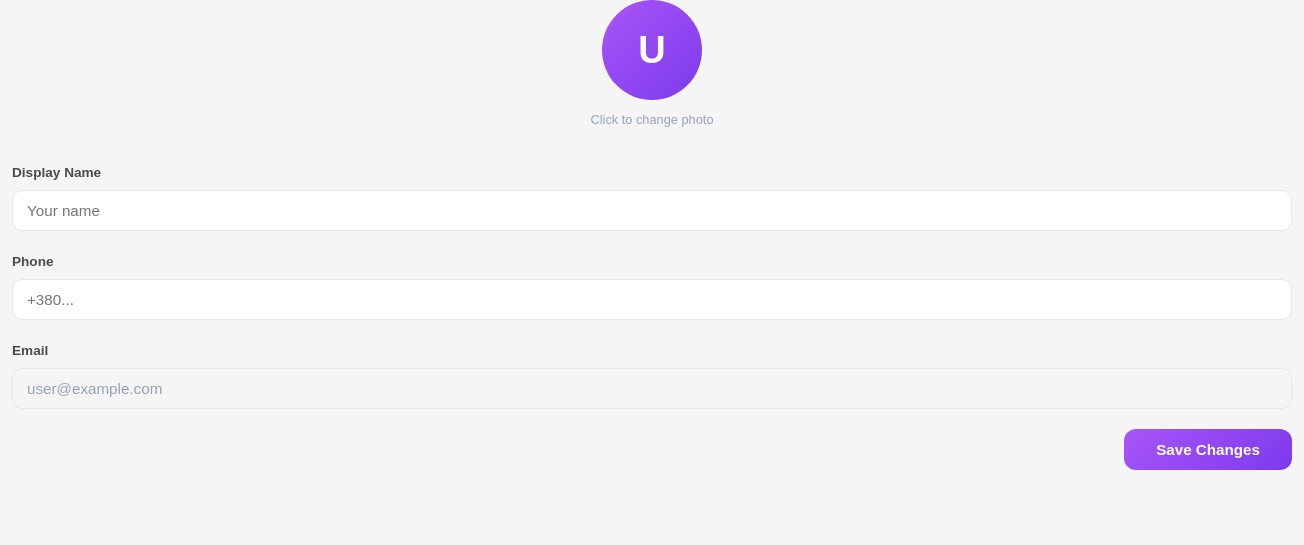
ProfileTab › shows a validation error for a too-short display name
This screenshot has width=1304, height=545.
Type "A" into the field labelled "Display Name" at point(652, 211), box left=12, top=190, right=1292, bottom=231
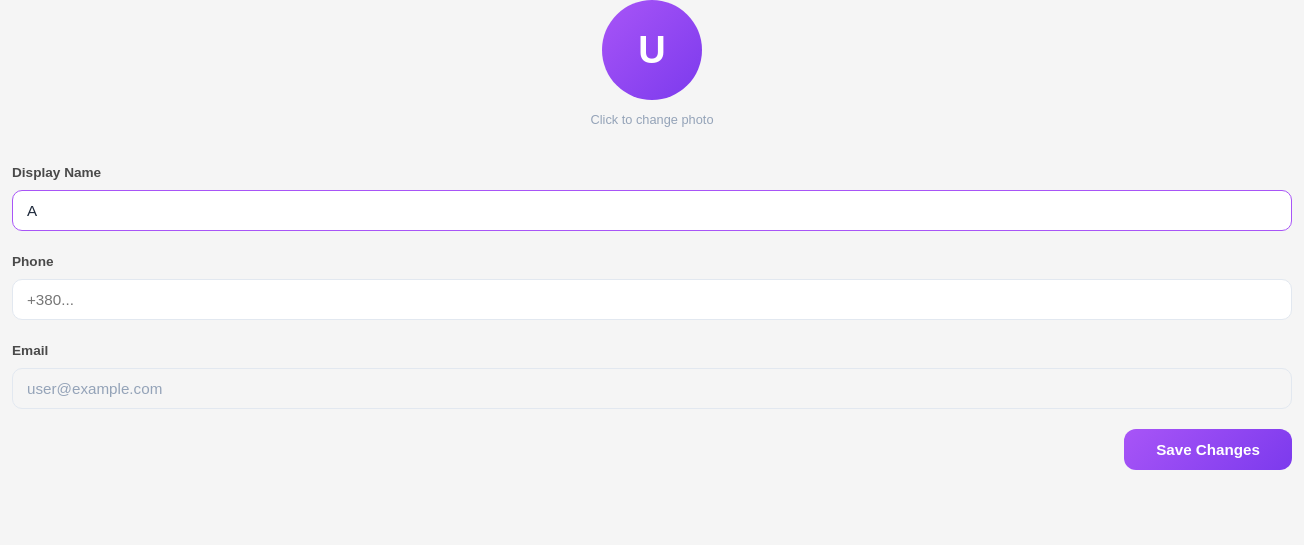
Click the button "Save Changes" at point(1208, 449), box left=1124, top=429, right=1292, bottom=470
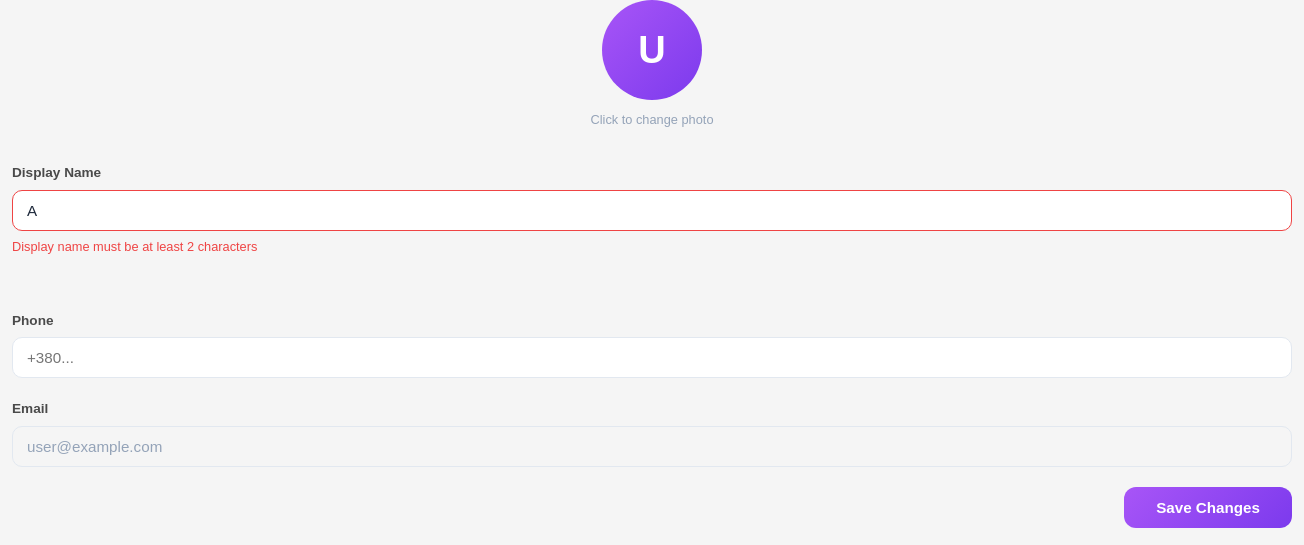
Expected: the text "Display name must be at least 2 characters" is shown, left=12, top=239, right=257, bottom=254
